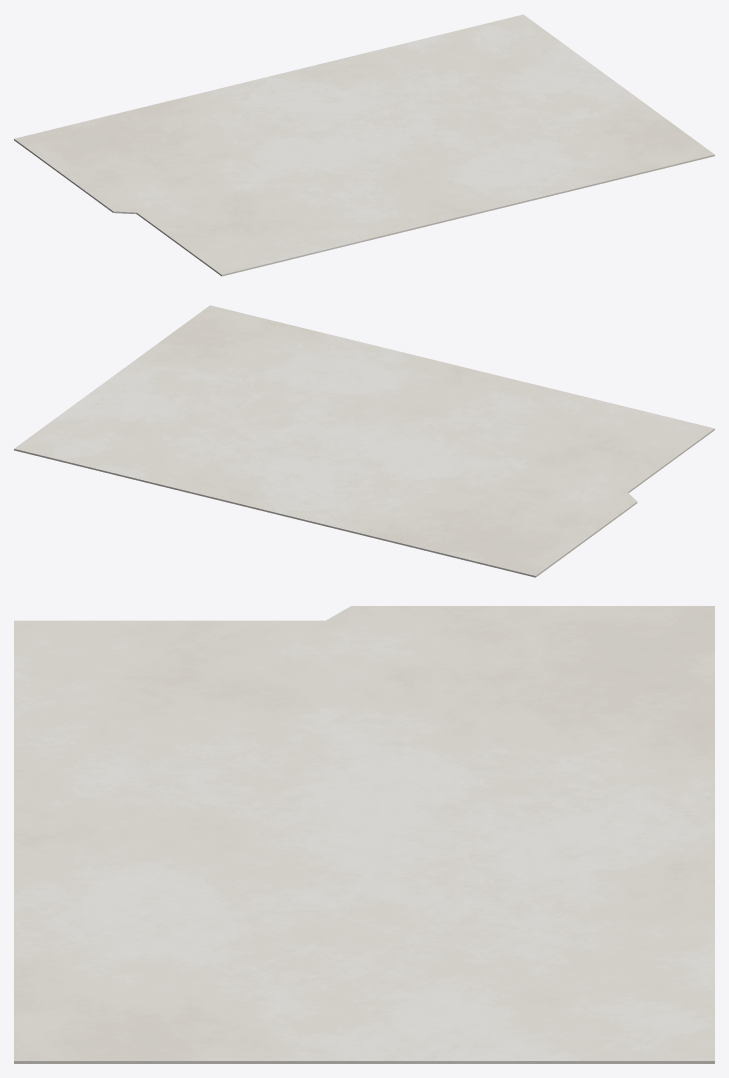
Rendered from FileFolder_opened.fbx.
The picture shows the model from 3 angles, top to bottom: view 1: azimuth 30°, elevation 25°; view 2: azimuth 150°, elevation 25°; view 3: azimuth 270°, elevation 25°; orthographic projection. The views are drawn at different scales.
Visible parts, largest first — view 1: FileFolder_opened; view 2: FileFolder_opened; view 3: FileFolder_opened.
Boxes of the visible parts, x1,y1,x2,y2 form: FileFolder_opened: (14,14,714,276); FileFolder_opened: (14,305,714,577); FileFolder_opened: (14,606,714,1063).
Bounding box in the file's own units: 307 × 0.9137 × 200.
